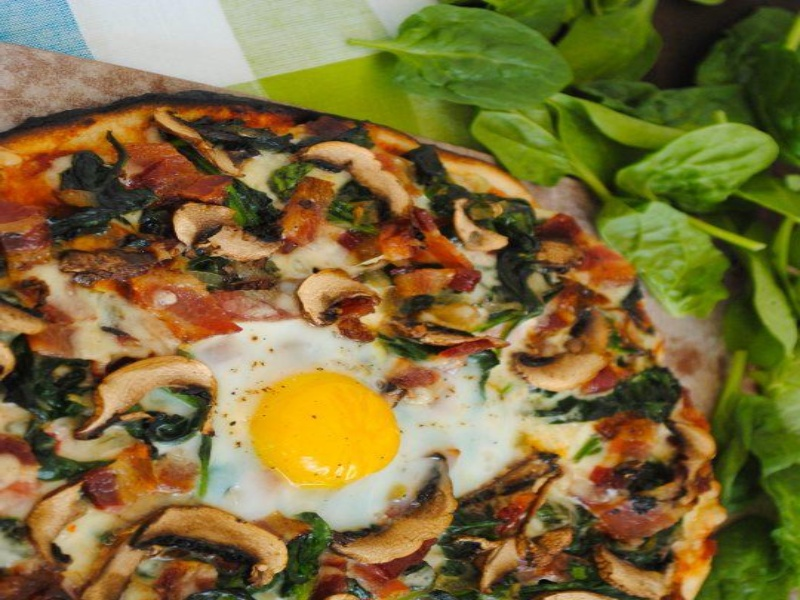champignon: (129, 499, 305, 587), (74, 356, 229, 450)
oeuf: (230, 355, 420, 508)
